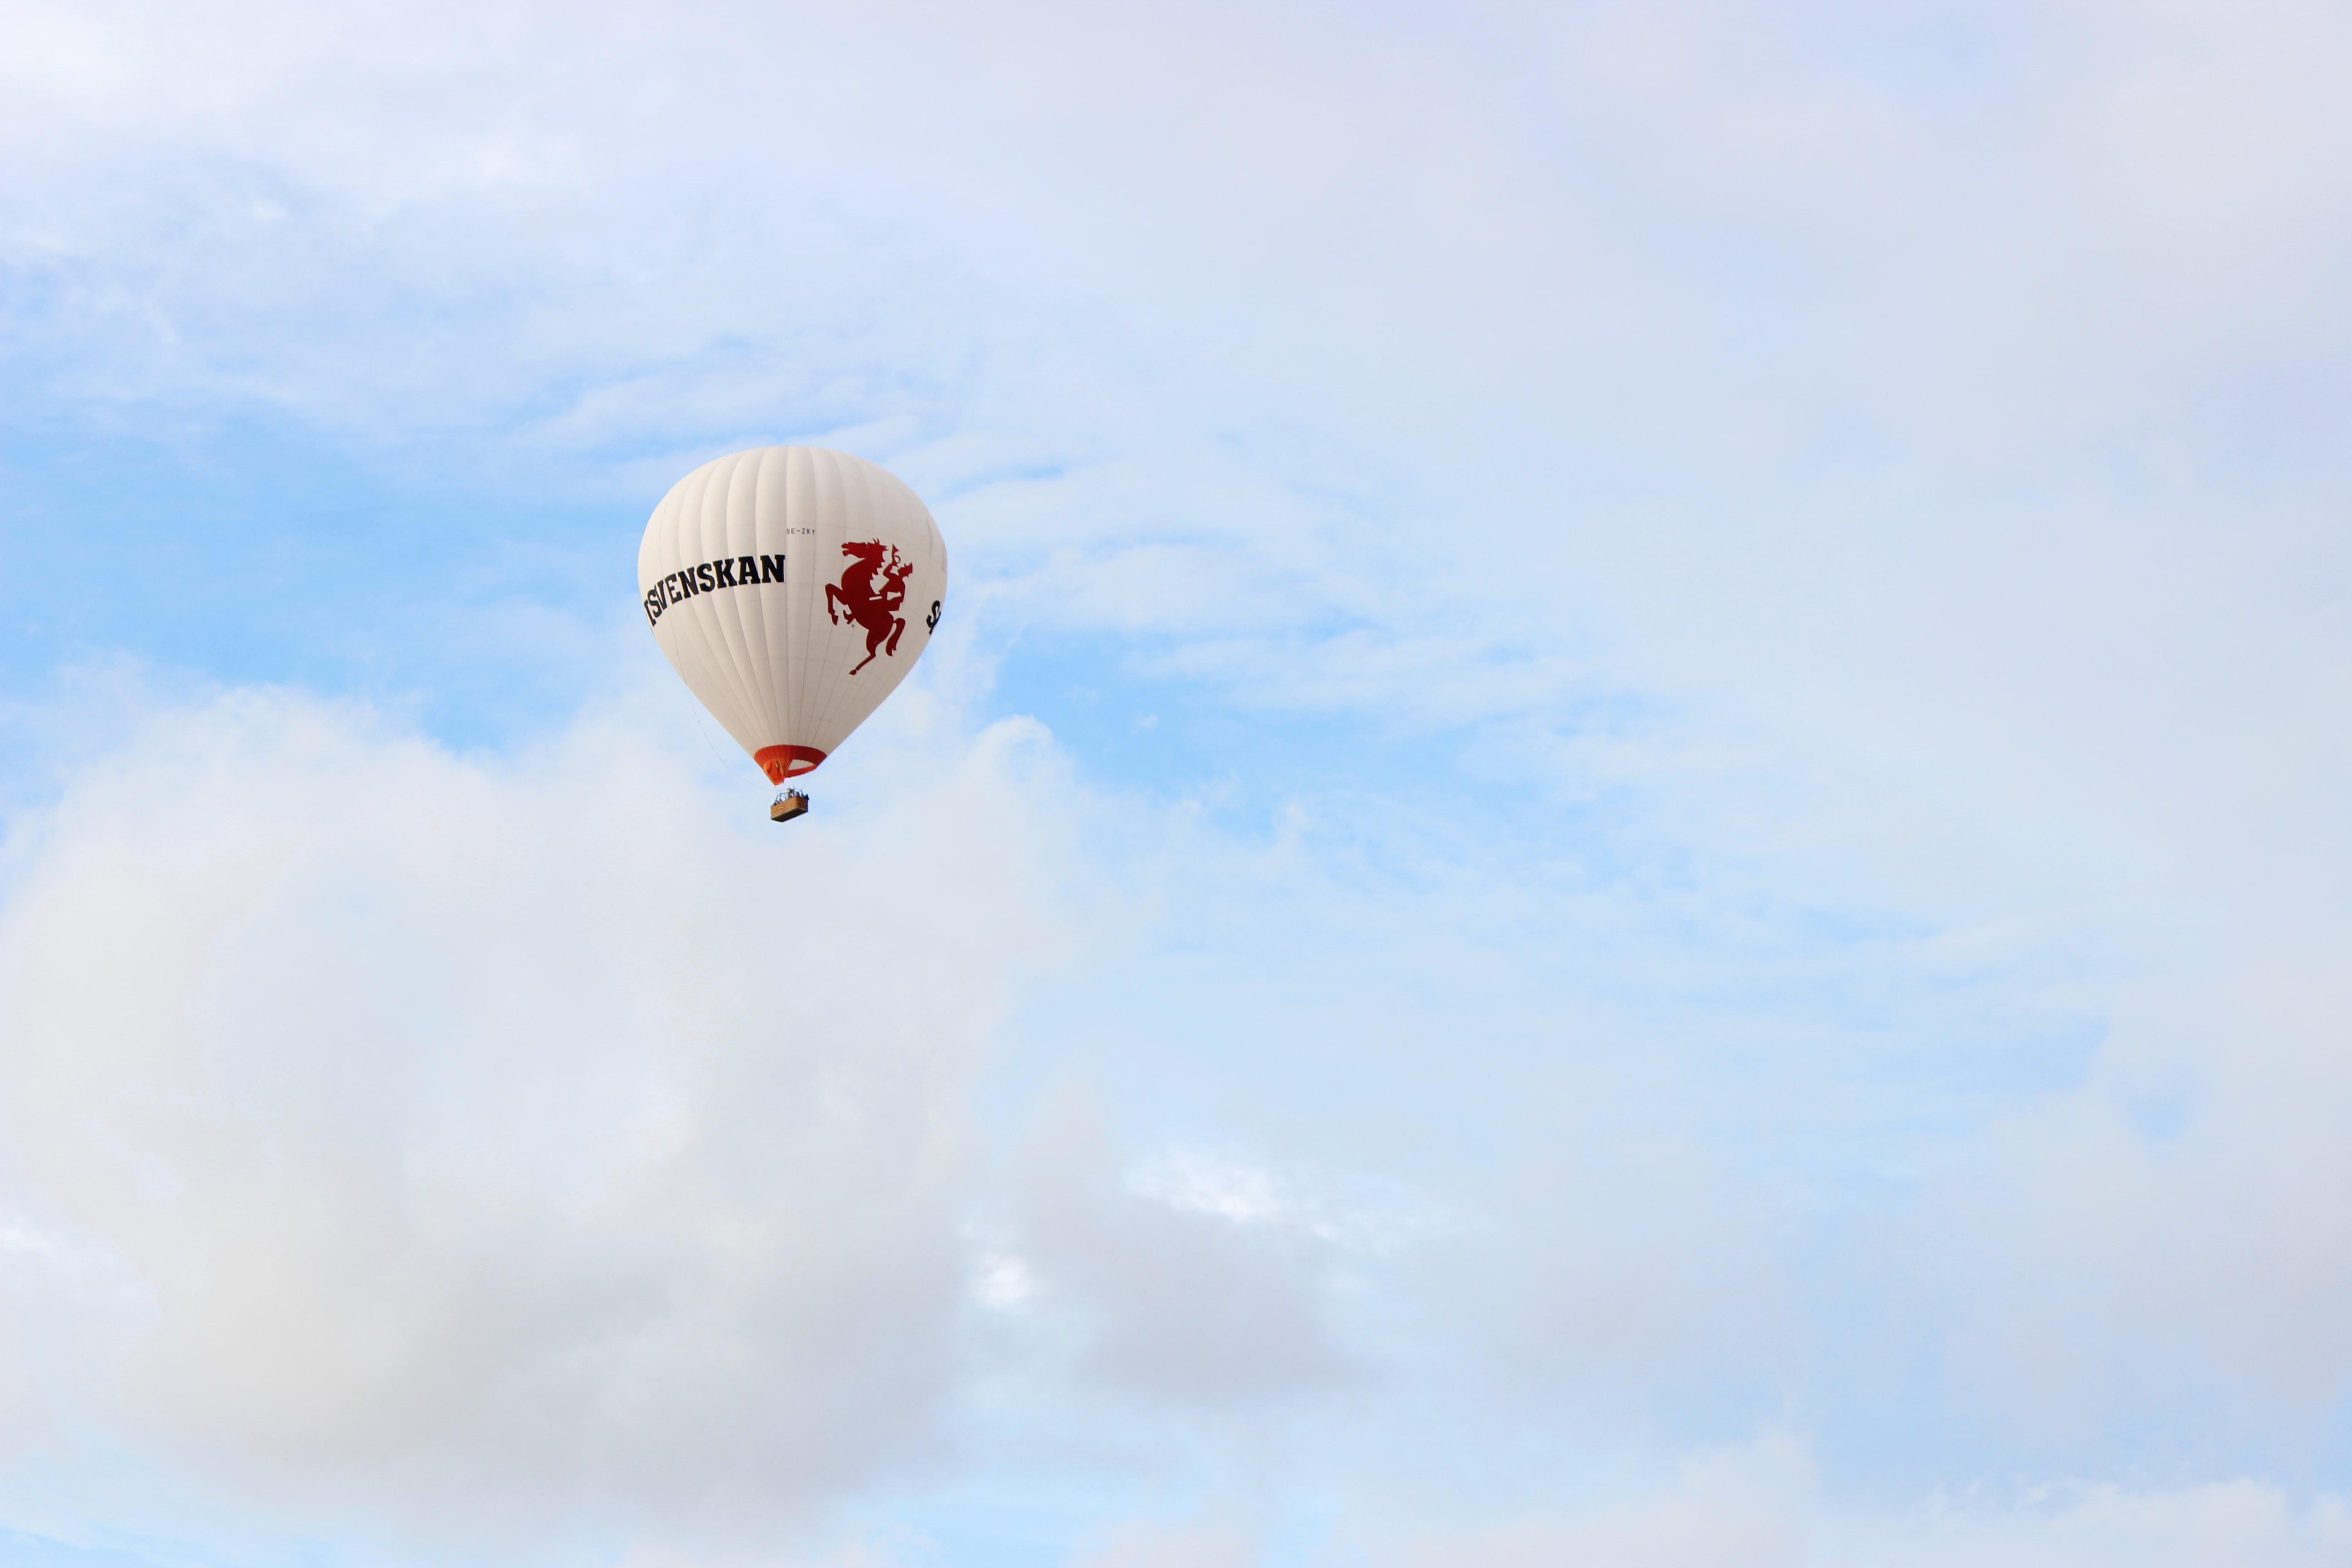hot air ballon: (632, 438, 954, 822)
